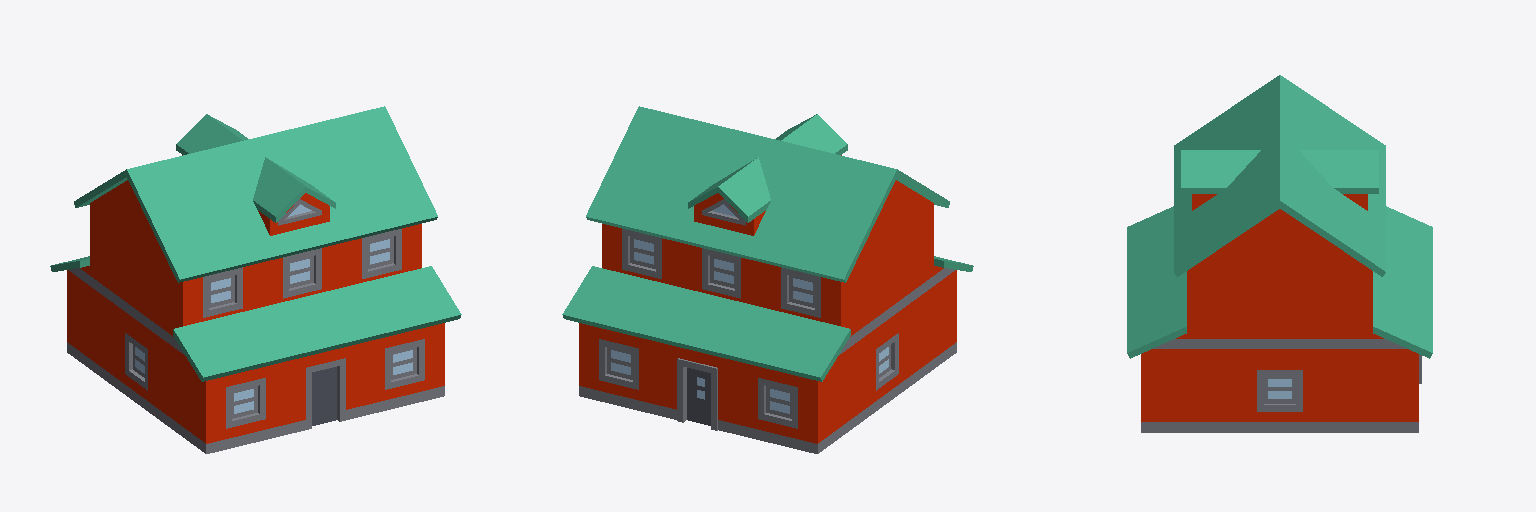
Rendered from city_residential_wood_2.obj.
The picture shows the model from 3 angles: view 1: azimuth 30°, elevation 25°; view 2: azimuth 150°, elevation 25°; view 3: azimuth 270°, elevation 25°; orthographic projection.
Parts seen in each view (by area): view 1: city_residential_2; view 2: city_residential_2; view 3: city_residential_2.
Boxes of the visible parts, x1=… form: city_residential_2: x1=50, y1=106, x2=461, y2=453; city_residential_2: x1=562, y1=106, x2=973, y2=453; city_residential_2: x1=1127, y1=75, x2=1432, y2=432.
Bounding box in the file's own units: 0.936 × 0.819 × 0.9596.